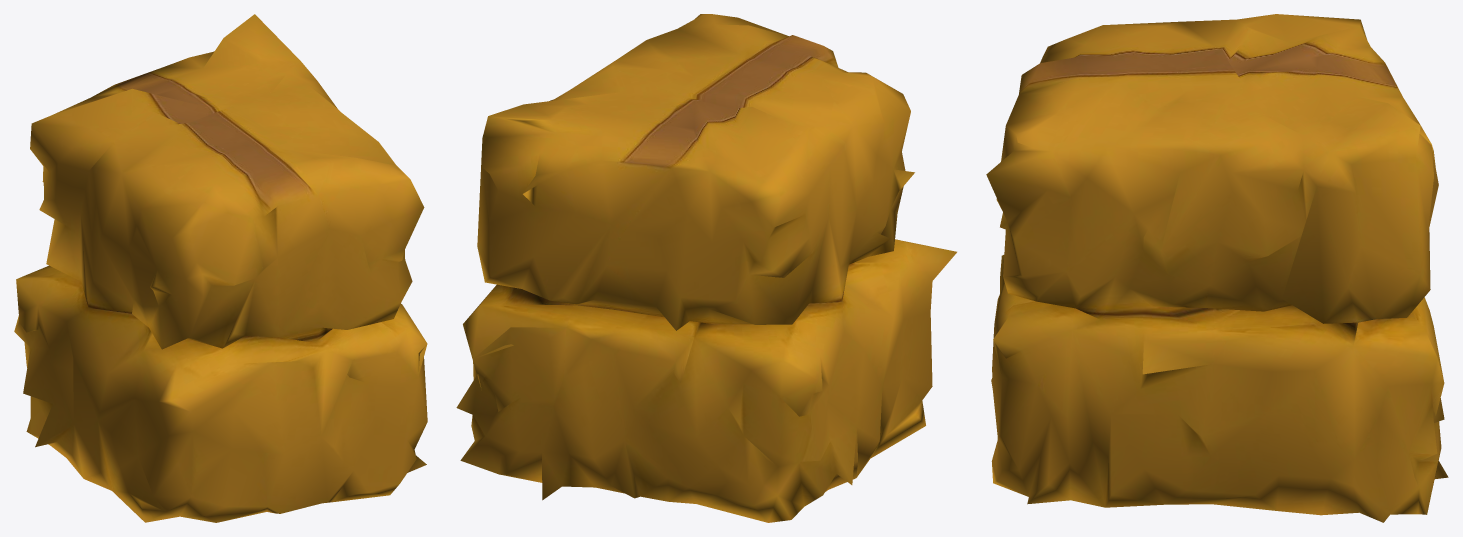
File: hay-bale.glb
3 views of the same model, side by side, from view 1: azimuth 30°, elevation 25°; view 2: azimuth 150°, elevation 25°; view 3: azimuth 270°, elevation 25° (orthographic). The views are drawn at different scales.
Parts seen in each view (by area): view 1: tripo_node_0f00384c-8bca-4b3e-911d-f27cd809d011; view 2: tripo_node_0f00384c-8bca-4b3e-911d-f27cd809d011; view 3: tripo_node_0f00384c-8bca-4b3e-911d-f27cd809d011.
Boxes of the visible parts, left/top/right/bottom form: tripo_node_0f00384c-8bca-4b3e-911d-f27cd809d011: left=14, top=14, right=427, bottom=522; tripo_node_0f00384c-8bca-4b3e-911d-f27cd809d011: left=456, top=14, right=956, bottom=522; tripo_node_0f00384c-8bca-4b3e-911d-f27cd809d011: left=986, top=14, right=1448, bottom=522.
Bounding box in the file's own units: 0.8956 × 0.9417 × 1.
1 material, 1 textured.
